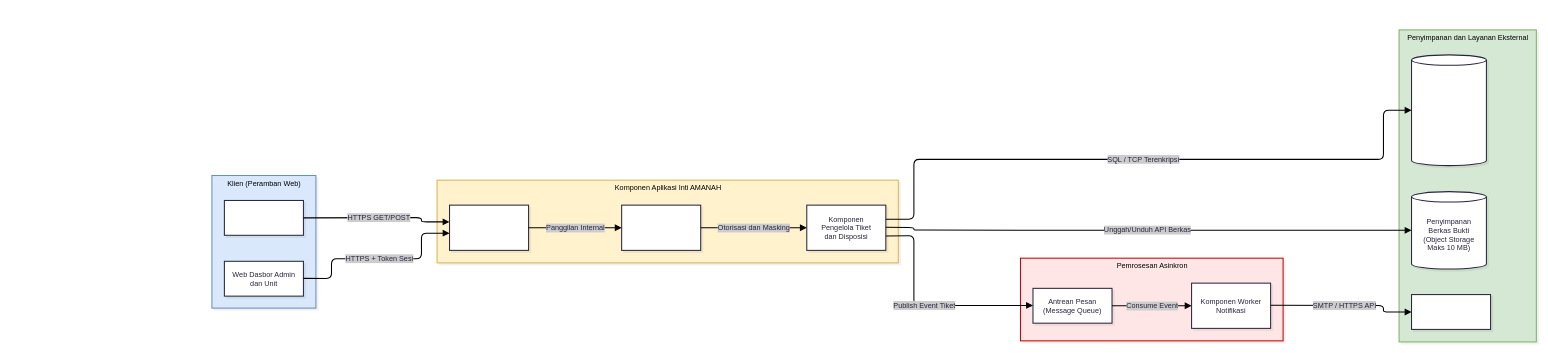
This 1548x353 diagram has some shape labels left out. The centre of each missing label's shape, as x and y in pixels:
"Basis Data Relasional Utama (Laporan, Identitas Terpisah, Audit Log)" belongs at [1450,111].
"Gateway Email dan WhatsApp" belongs at [1452,313].
"Komponen Layanan Web dan API AMANAH" belongs at [490,228].
"Komponen Pengendali Privasi dan RBAC" belongs at [662,228].
"Web Pelapor Publik" belongs at [265,219].
